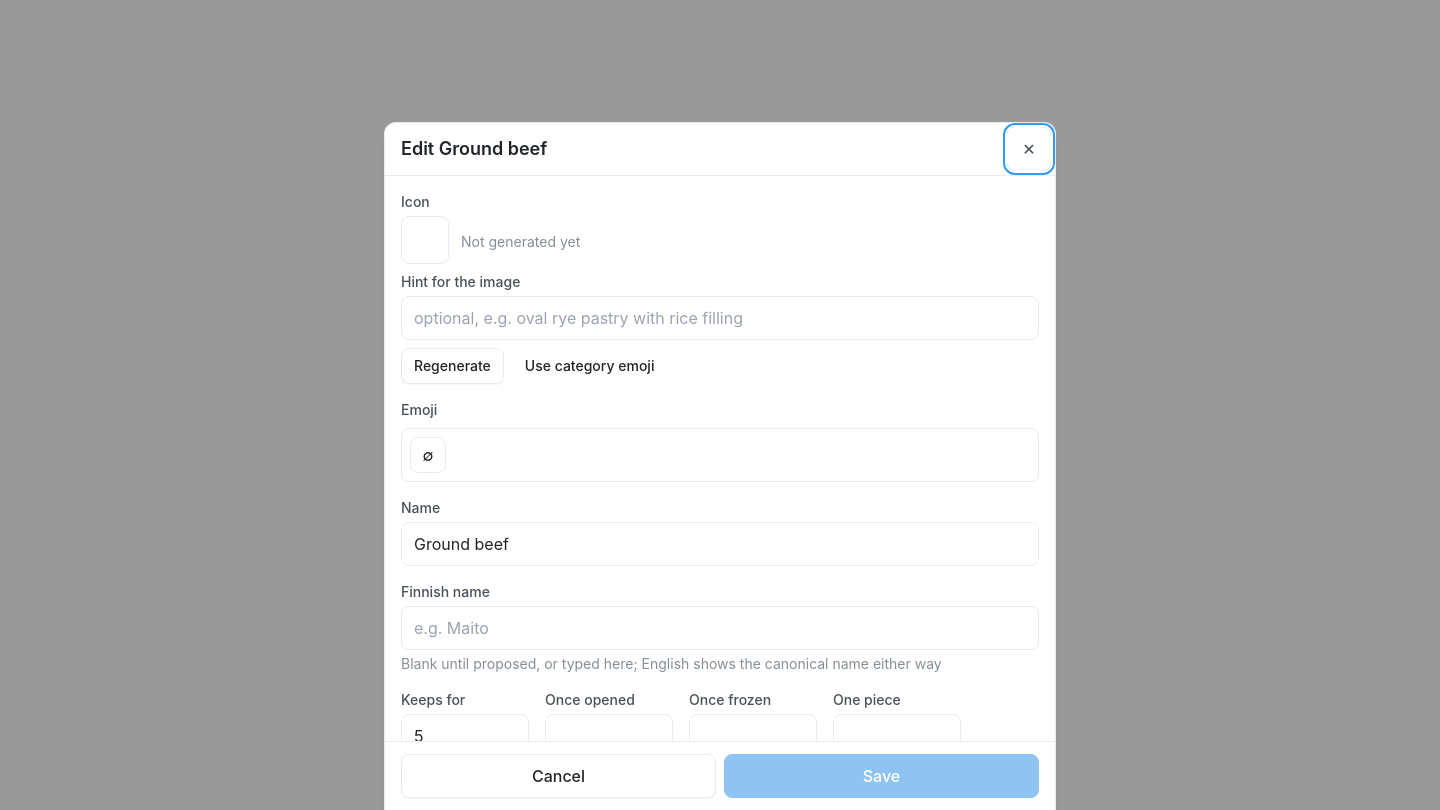
ProductEditSheet › keeps the sheet open and shows the reason when the API refuses
Replace the text in the field labelled "Name" with "Milk". click: (720, 544)
box: 401,522 -> 1039,566
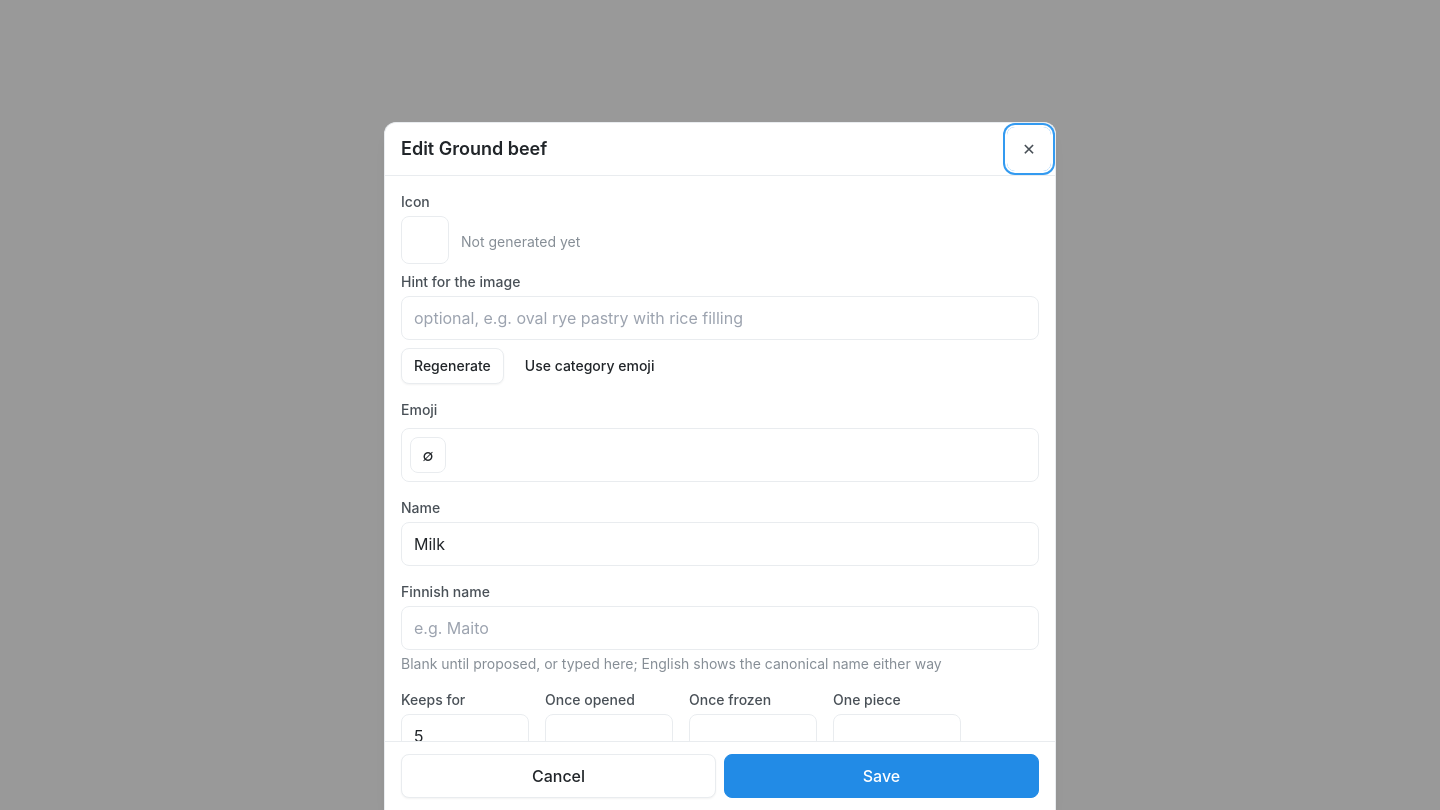
Click the button "Save". click: (882, 776)
box: 724,754 -> 1039,798
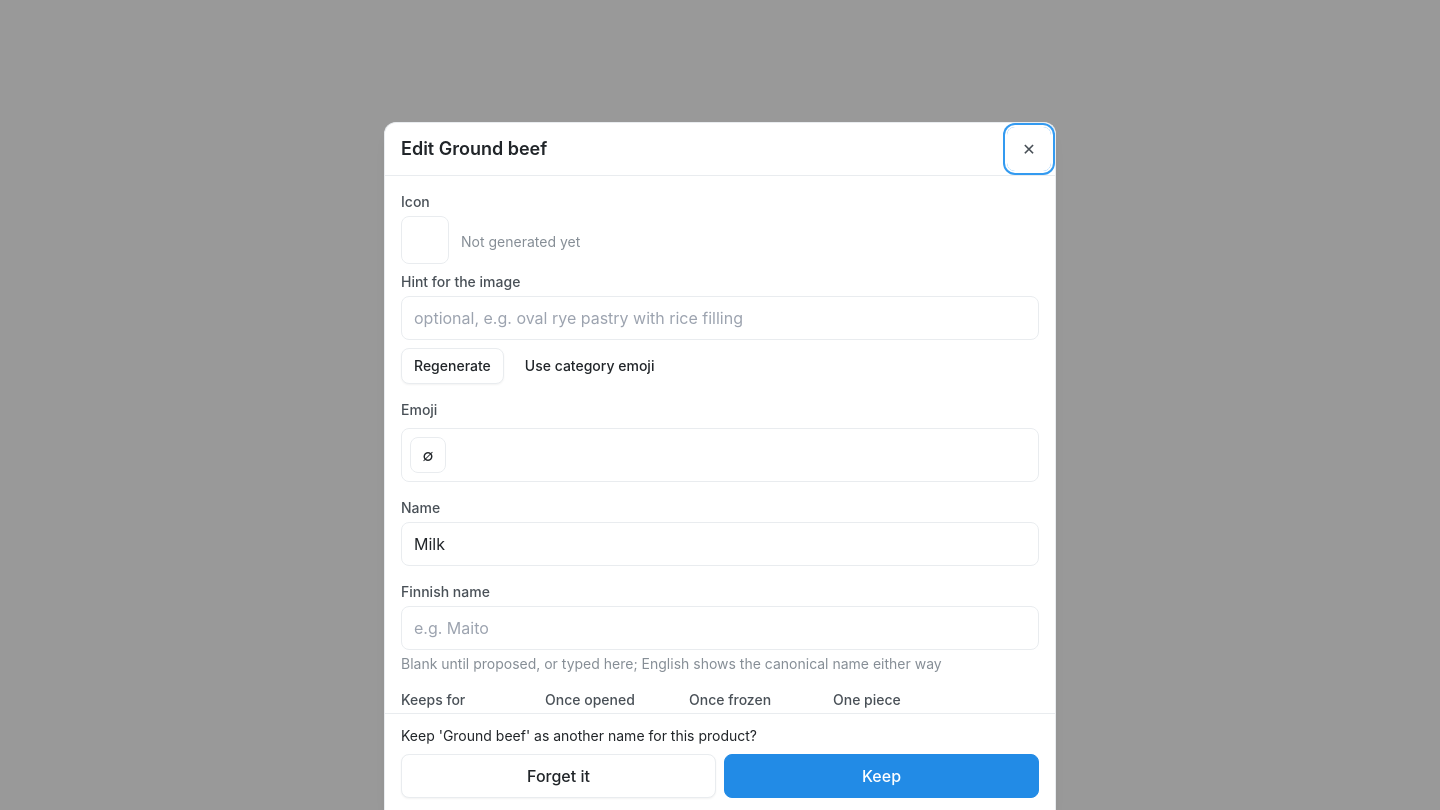
Click the button "Keep". click: (882, 776)
box: 724,754 -> 1039,798
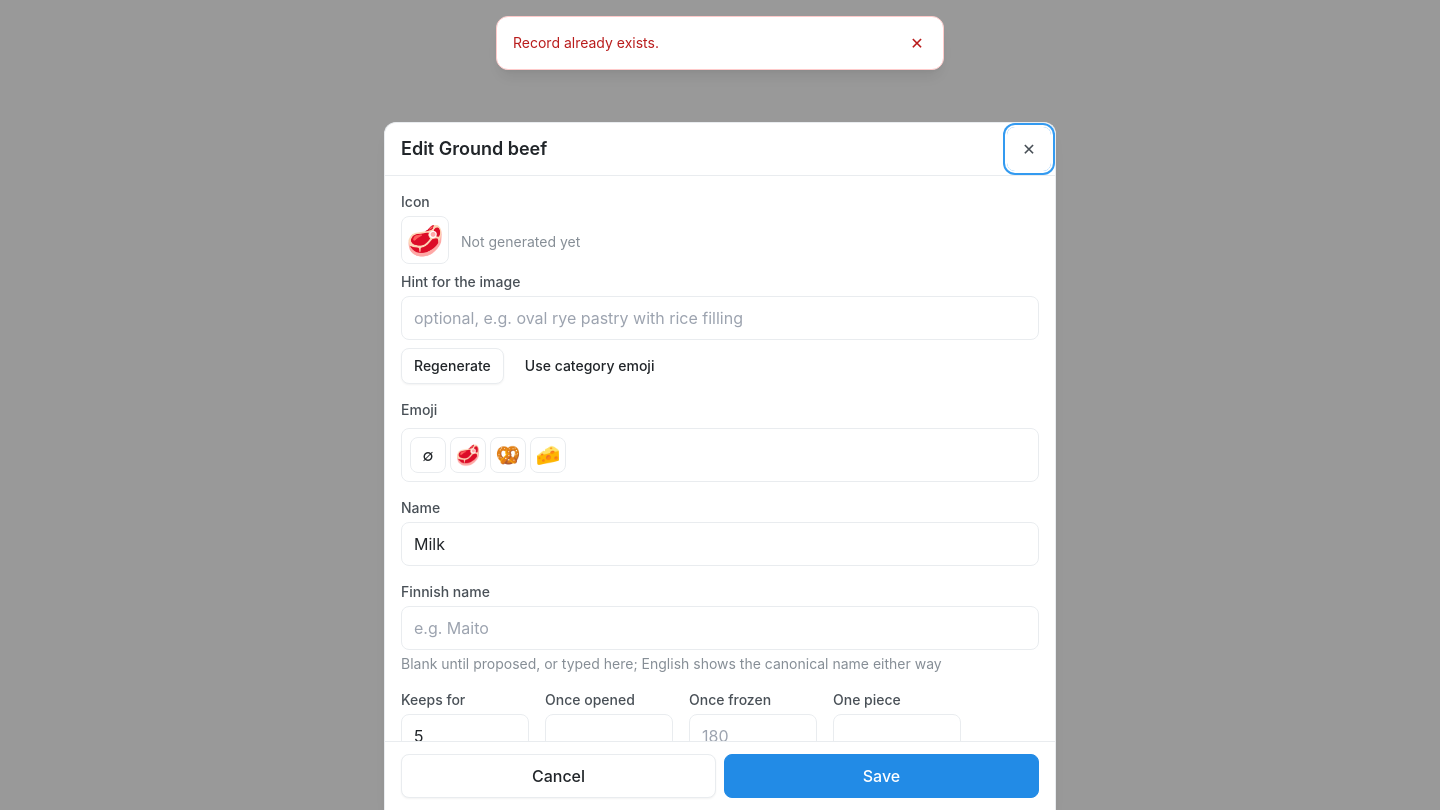
Expected: the text "Record already exists." is shown, 513,34 -> 659,51
